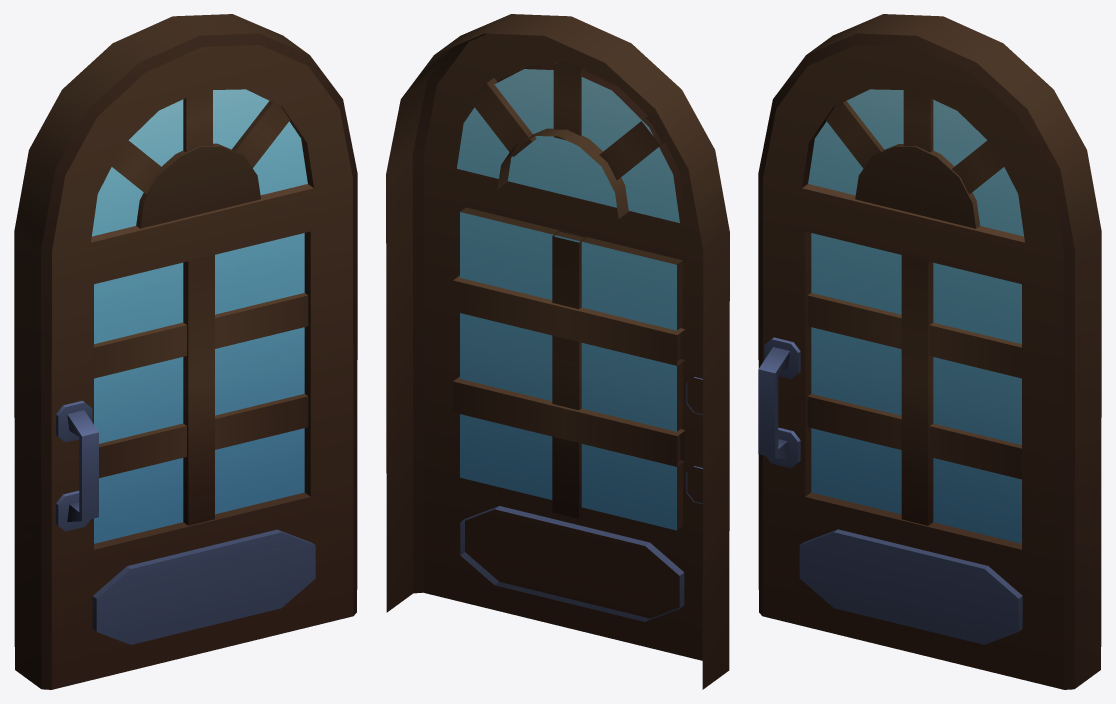
File: Door_07A.fbx
3 views of the same model, side by side, from view 1: azimuth 30°, elevation 25°; view 2: azimuth 150°, elevation 25°; view 3: azimuth 330°, elevation 25° (orthographic).
Parts seen in each view (by area): view 1: Door_07A; view 2: Door_07A; view 3: Door_07A.
Part boxes in pixels (left/top/right/bottom): Door_07A: left=14, top=14, right=357, bottom=689; Door_07A: left=386, top=14, right=729, bottom=689; Door_07A: left=758, top=14, right=1101, bottom=689.
Bounding box in the file's own units: 147 × 272 × 37.83.
Materials: 3 (3 with a texture image).
